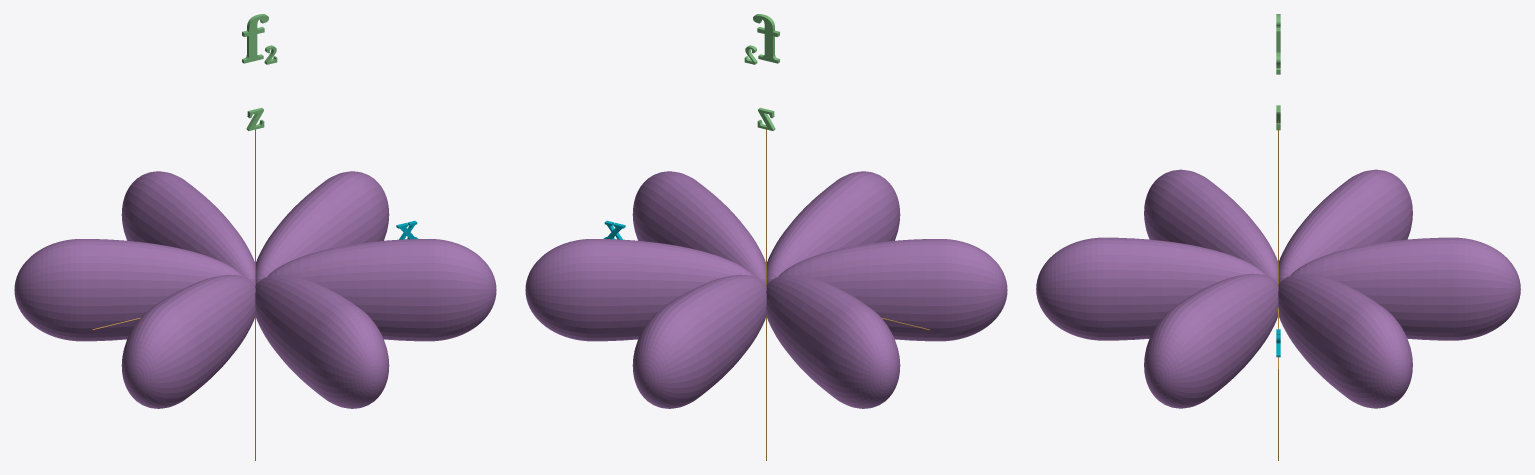
File: f2 orbital.glb
3 renders of one model, left to right at view 1: azimuth 30°, elevation 25°; view 2: azimuth 150°, elevation 25°; view 3: azimuth 270°, elevation 25°, orthographic.
Parts seen in each view (by area): view 1: Mesh_Mesh_head_geo.001_lambert2SG.001; view 2: Mesh_Mesh_head_geo.001_lambert2SG.001; view 3: Mesh_Mesh_head_geo.001_lambert2SG.001.
Part boxes in pixels (left/top/right/bottom): Mesh_Mesh_head_geo.001_lambert2SG.001: left=14, top=14, right=496, bottom=460; Mesh_Mesh_head_geo.001_lambert2SG.001: left=525, top=14, right=1007, bottom=460; Mesh_Mesh_head_geo.001_lambert2SG.001: left=1036, top=14, right=1520, bottom=460.
Bounding box in the file's own units: 94.4 × 109 × 108.
